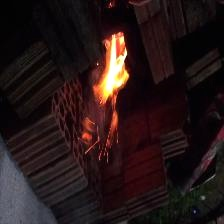fire: (79, 26, 136, 158)
